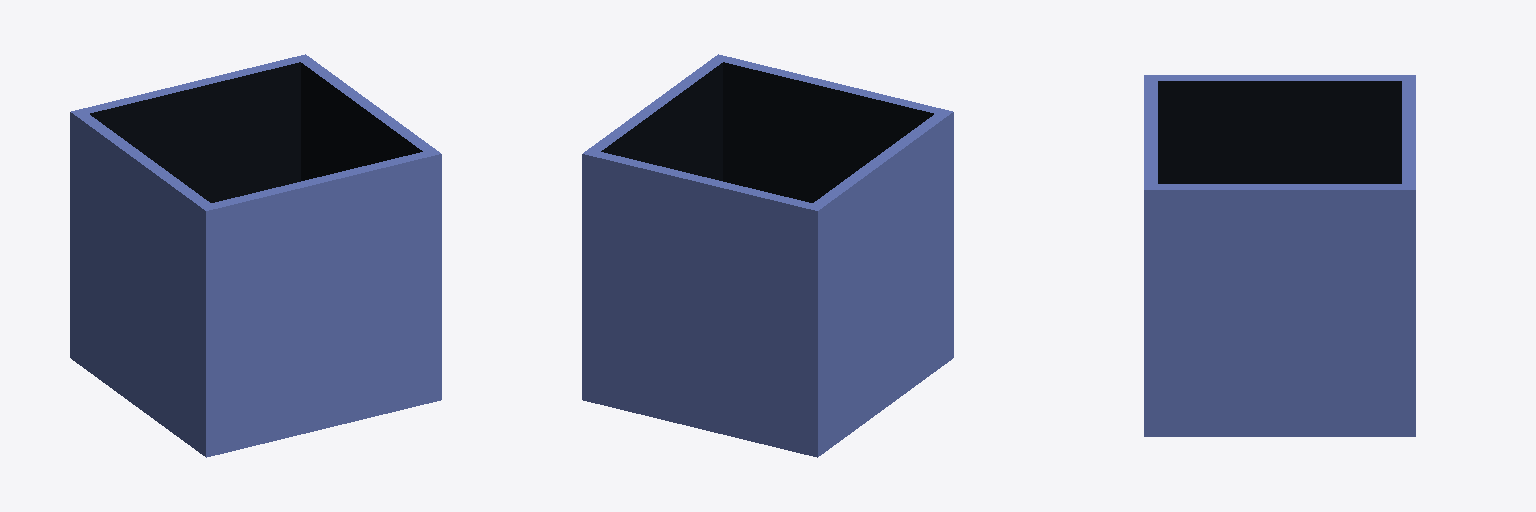
3 renders of one model, left to right at view 1: azimuth 30°, elevation 25°; view 2: azimuth 150°, elevation 25°; view 3: azimuth 270°, elevation 25°, orthographic.
Parts seen in each view (by area): view 1: 落穴; view 2: 落穴; view 3: 落穴.
Boxes of the visible parts, <box> form: 落穴: <box>70,54,441,457</box>; 落穴: <box>582,54,953,457</box>; 落穴: <box>1144,75,1415,436</box>.
Bounding box in the file's own units: 1 × 1 × 1.